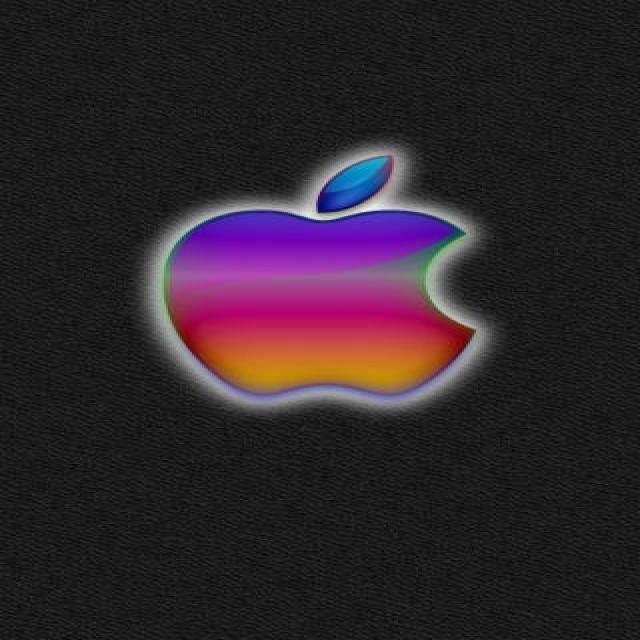apple: (143, 144, 497, 408)
